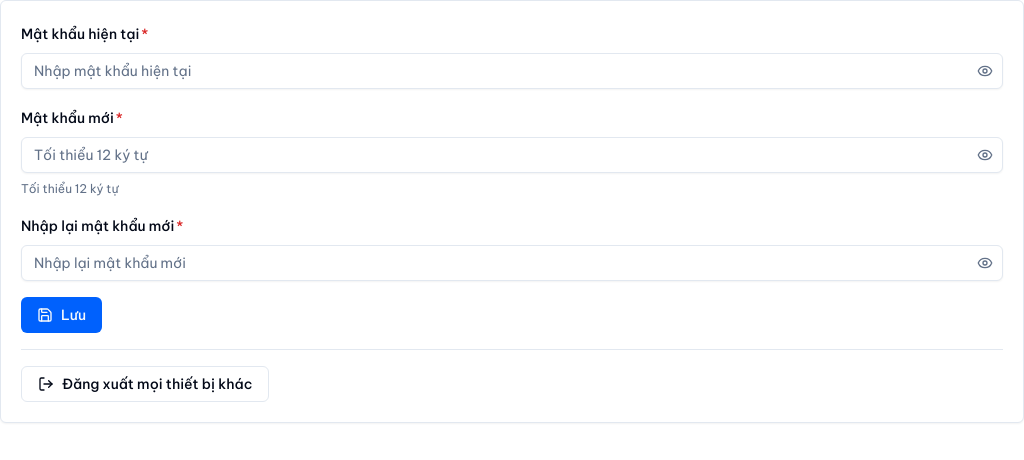
Test case: ChangePassword › 401 invalid_credentials → inline error on current password
Type "wrong-current" into the password field labelled "Mật khẩu hiện tại*" at (512, 71), box [21,53,1003,89]
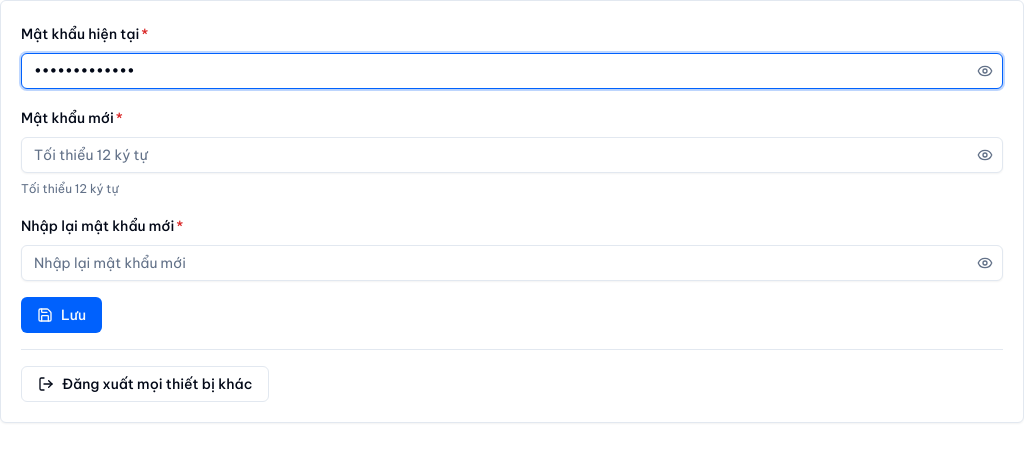
Type "brand-new-password" into the password field labelled "Mật khẩu mới*" at (512, 155), box [21,137,1003,173]
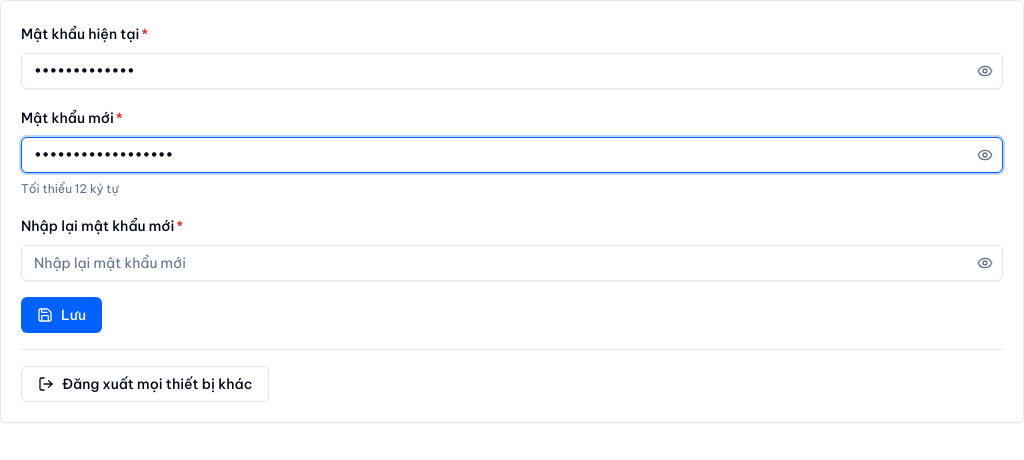
Type "brand-new-password" into the password field labelled "Nhập lại mật khẩu mới*" at (512, 263), box [21,245,1003,281]
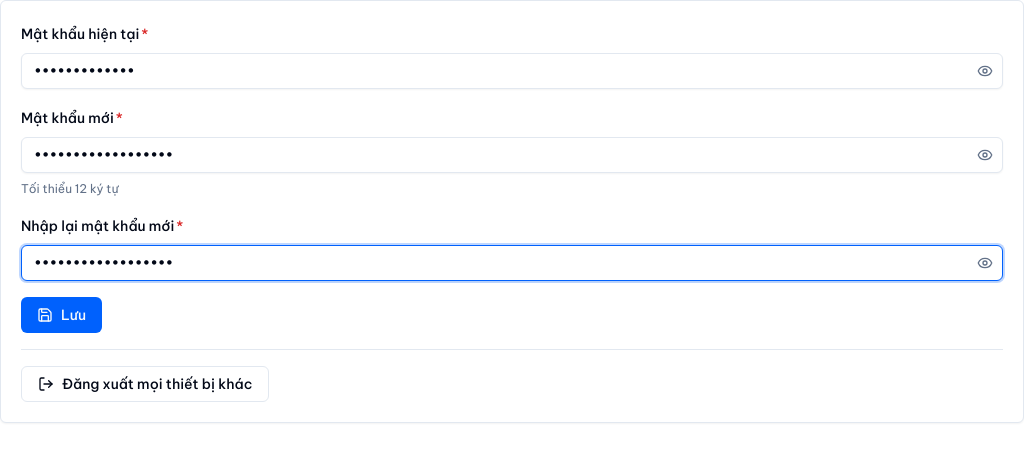
Click the button "Lưu" at (62, 315), box [21,297,102,333]
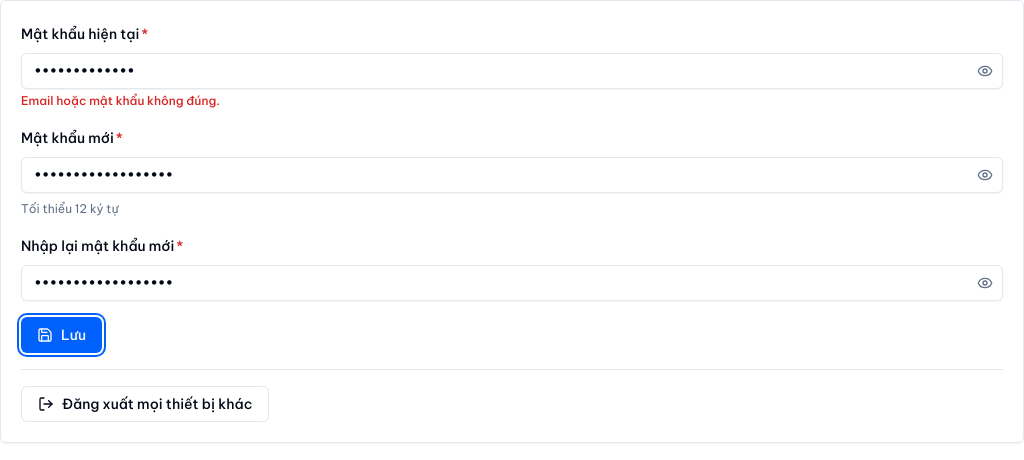
Expected: the text "Email hoặc mật khẩu không đúng." is shown, [21,93,220,108]
